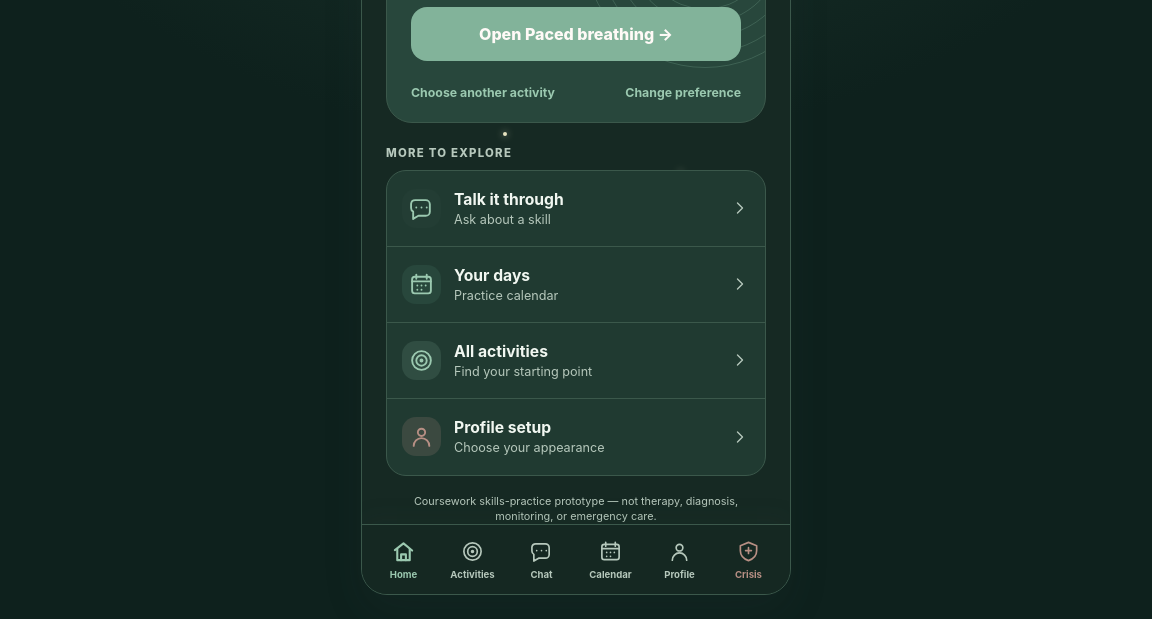
Scenario: ClearSpace Part 3.2 flows › provides bottom navigation to the existing activity, calendar, profile, and chat routes
(page scrolled)
Expected: the button "Home" is shown, [370,536,437,584]
What coordinates should you click on to do the following:
click the button "Activities"
I would click on:
 (472, 560)
Its box is [439,536,506,584].
(page scrolled)
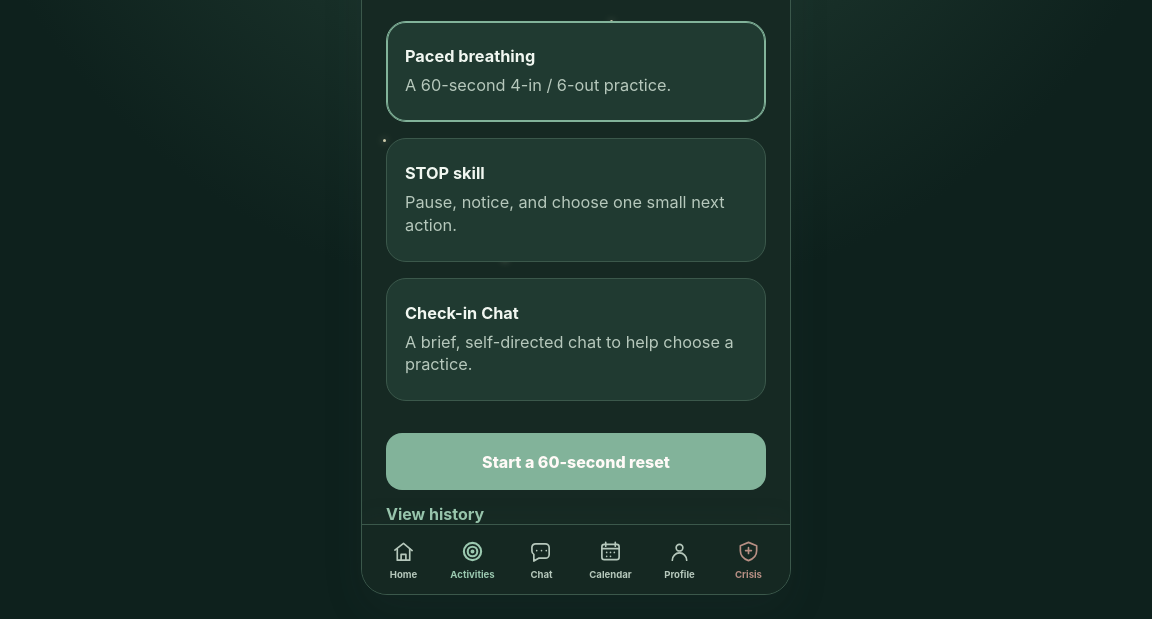
What coordinates should you click on to do the following:
click the button "Calendar"
I would click on:
 (610, 560)
Its box is [577,536,644,584].
(page scrolled)
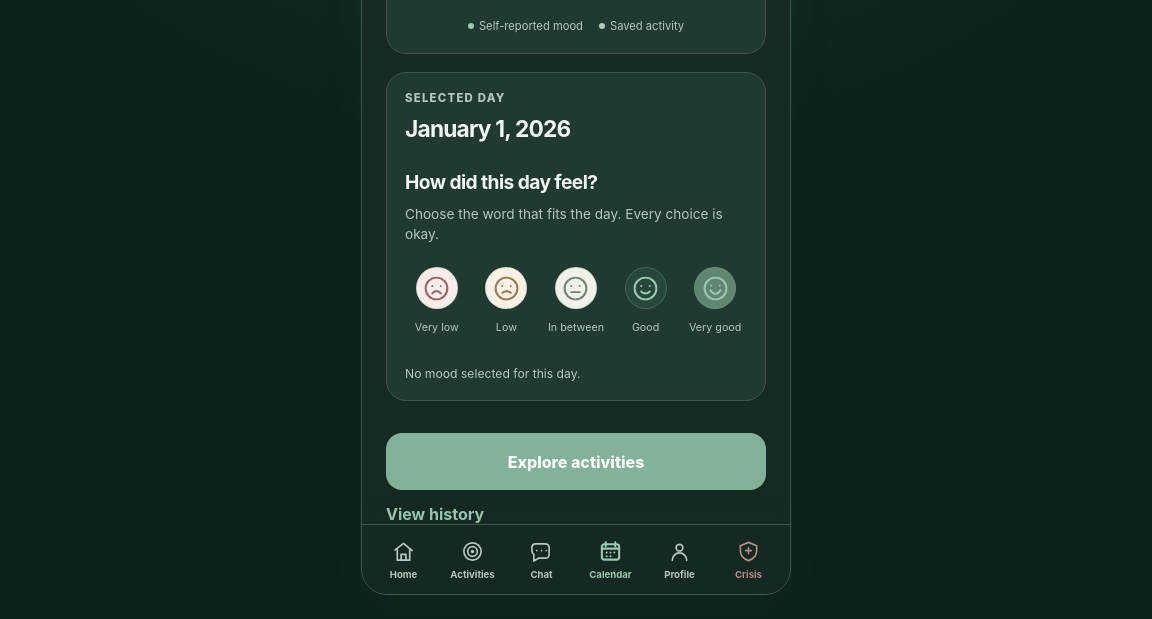
What coordinates should you click on to do the following:
click the button "Profile"
I would click on:
 (680, 560)
Its box is [646,536,713,584].
(page scrolled)
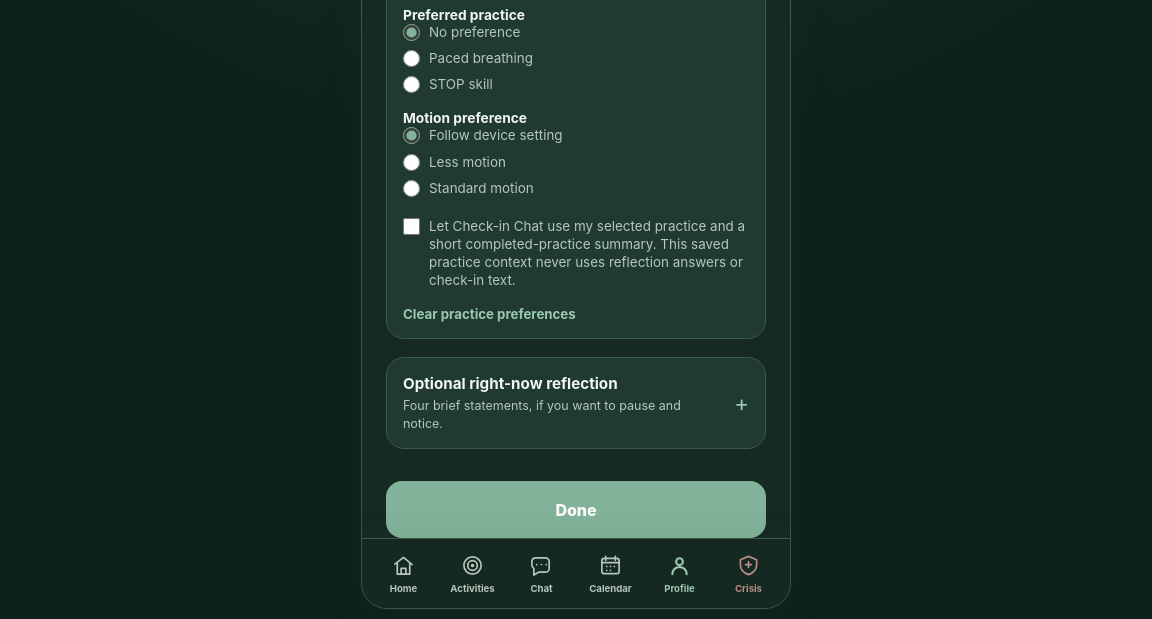
What coordinates should you click on to do the following:
click the button "Chat"
I would click on:
 (542, 574)
Its box is [508,550,575,598].
(page scrolled)
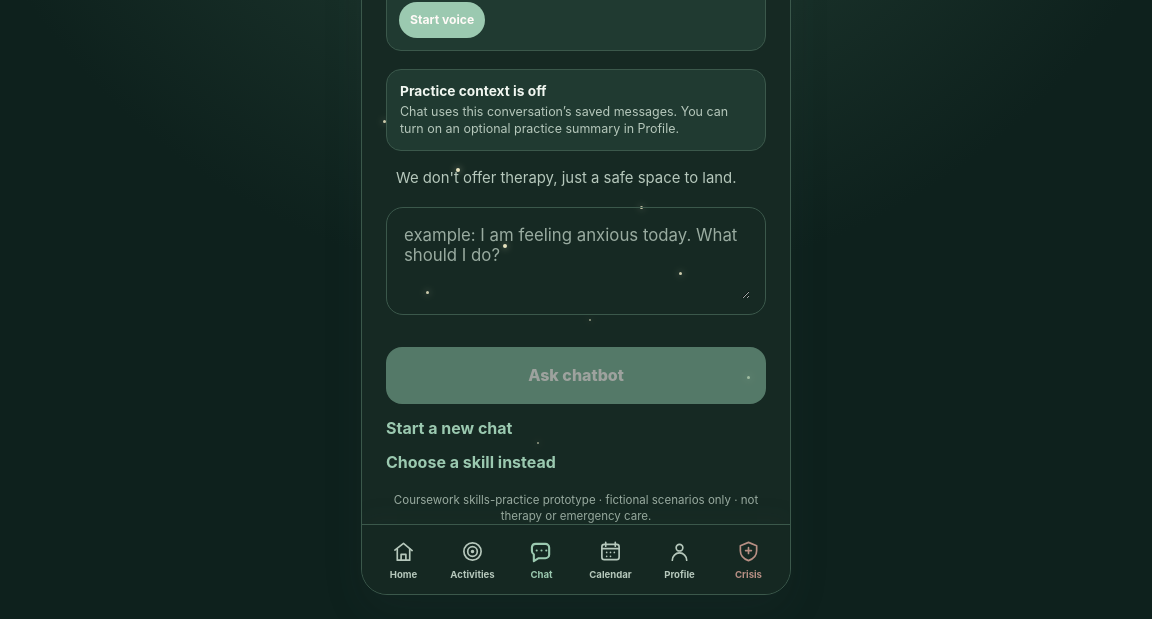
What coordinates should you click on to do the following:
click the button "Crisis"
I would click on:
 (748, 560)
Its box is [715,536,782,584].
(page scrolled)
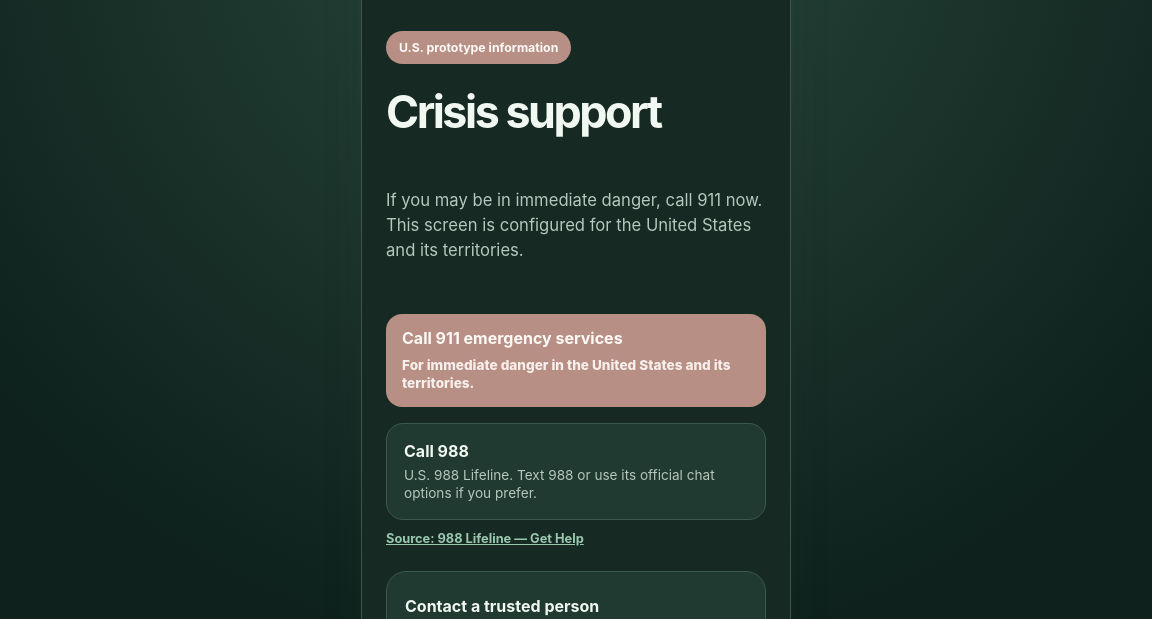
Now the heading "Crisis support" is shown, box [386,85,661,139]
